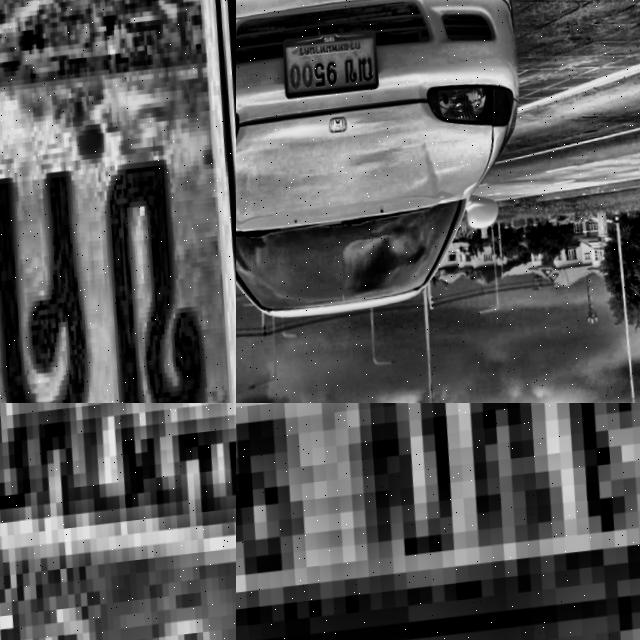license-plate: (236, 403, 640, 640), (0, 0, 236, 403), (0, 403, 236, 640), (278, 29, 384, 102)
